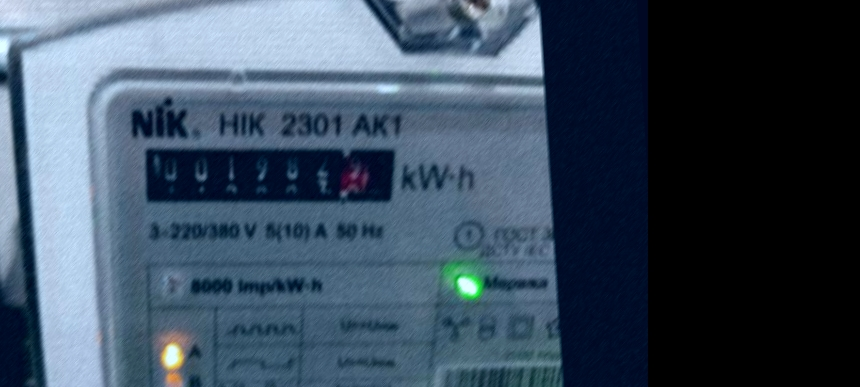0: (193, 153, 211, 183), (163, 152, 180, 182)
1: (225, 151, 238, 181)
2: (315, 148, 334, 178)
8: (285, 151, 302, 180)
9: (346, 152, 368, 182), (254, 152, 271, 182)
screen: (127, 118, 414, 231)
